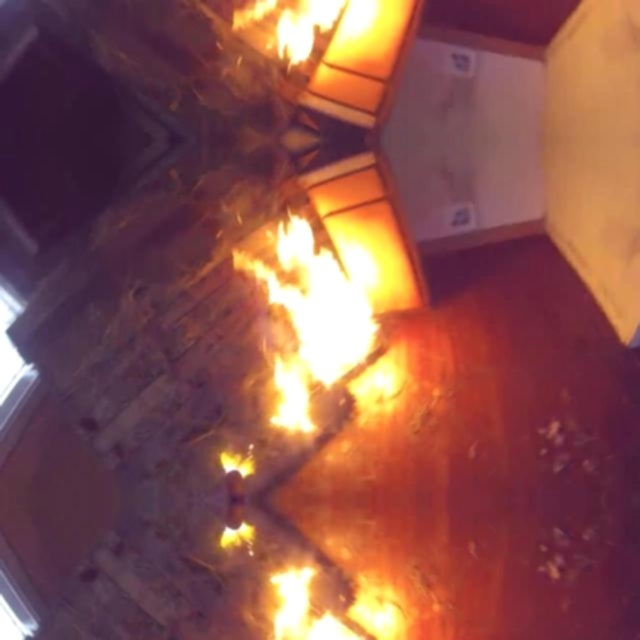fire: (212, 177, 400, 517)
